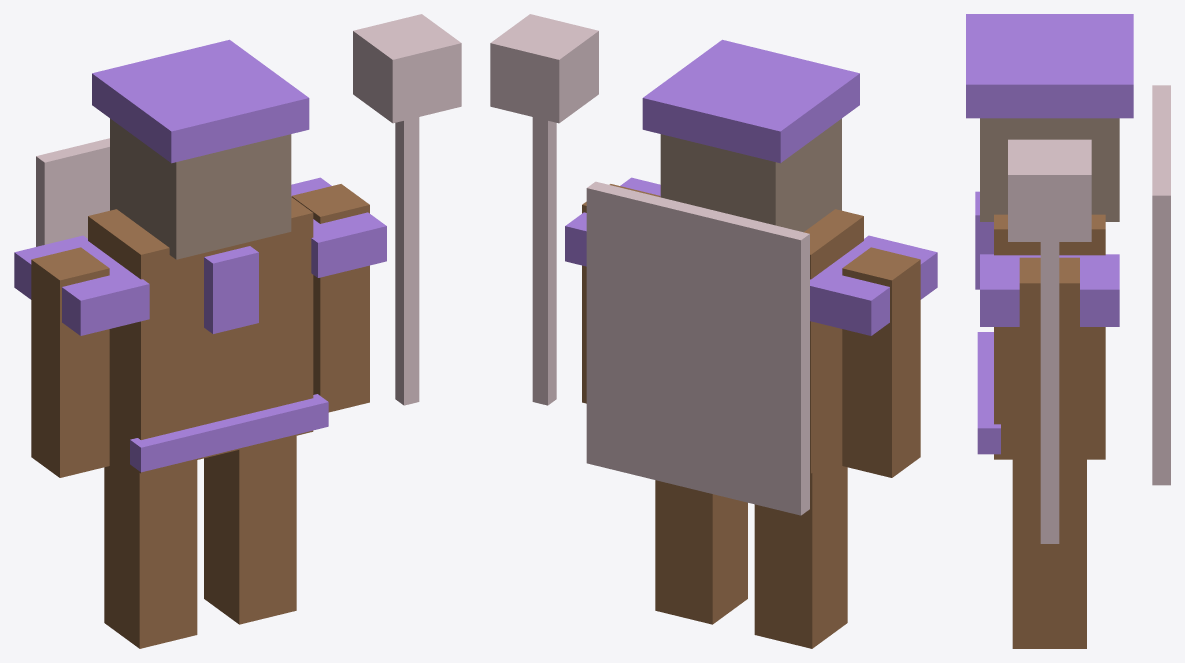
The model's file is 02_bryn_gearmantle_medic_near_frequency.glb.
The picture shows the model from 3 angles, left to right: view 1: azimuth 30°, elevation 25°; view 2: azimuth 150°, elevation 25°; view 3: azimuth 270°, elevation 25°; orthographic projection. The views are drawn at different scales.
Parts seen in each view (by area): view 1: Bryn Gearmantle, Medic near Frequency; view 2: Bryn Gearmantle, Medic near Frequency; view 3: Bryn Gearmantle, Medic near Frequency.
Boxes of the visible parts, left/top/right/bottom form: Bryn Gearmantle, Medic near Frequency: left=14, top=14, right=461, bottom=648; Bryn Gearmantle, Medic near Frequency: left=490, top=14, right=937, bottom=648; Bryn Gearmantle, Medic near Frequency: left=966, top=14, right=1170, bottom=648.
Bounding box in the file's own units: 1.1 × 1.41 × 0.4682.
